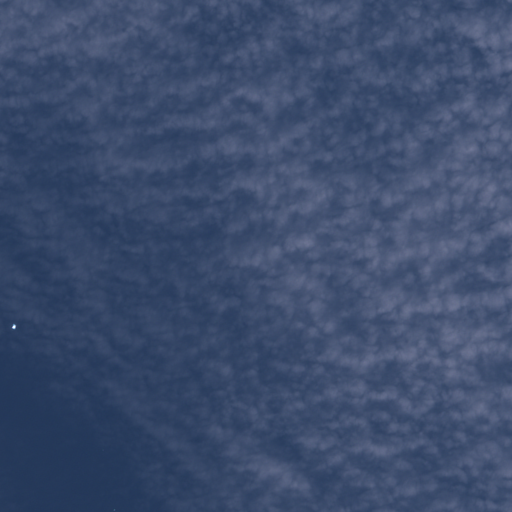Iceberg: (12, 324, 15, 328)
